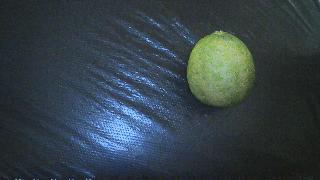DESECHO: (187, 31, 255, 107)
